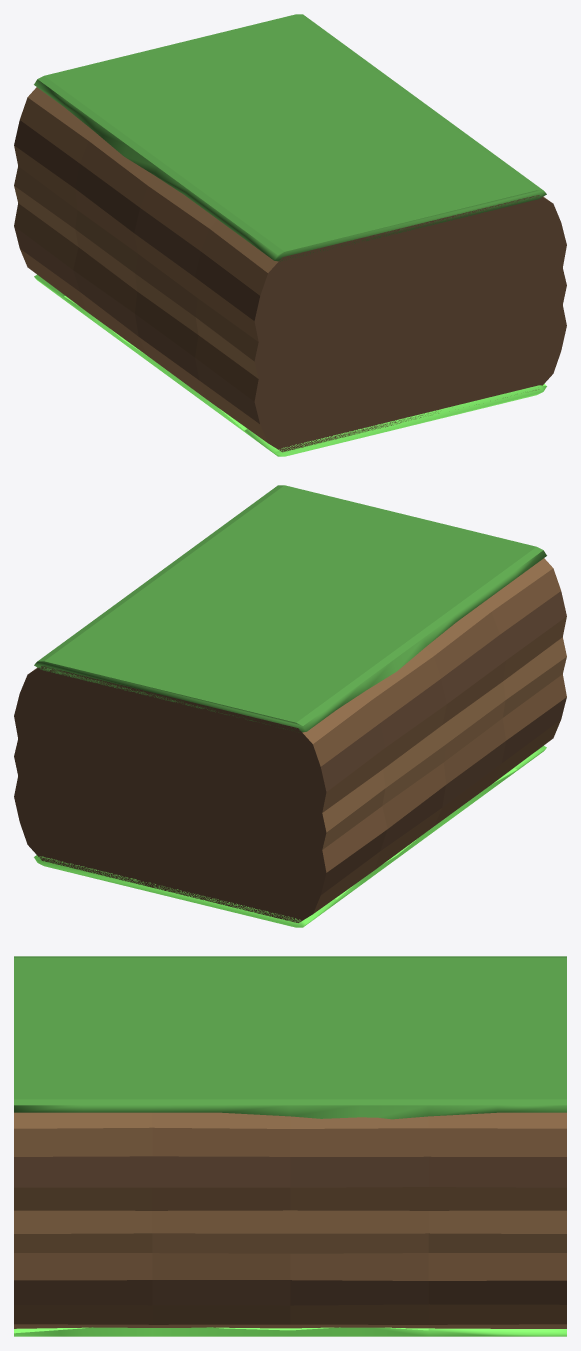
File: bough-slab.glb
The picture shows the model from 3 angles, top to bottom: view 1: azimuth 30°, elevation 25°; view 2: azimuth 150°, elevation 25°; view 3: azimuth 270°, elevation 25°; orthographic projection. The views are drawn at different scales.
Parts seen in each view (by area): view 1: bough-slab; view 2: bough-slab; view 3: bough-slab.
Boxes of the visible parts, bbox=[...] form: bough-slab: bbox=[14, 14, 566, 456]; bough-slab: bbox=[14, 485, 566, 927]; bough-slab: bbox=[14, 956, 566, 1336].
Bounding box in the file's own units: 30.2 × 18.8 × 40.
